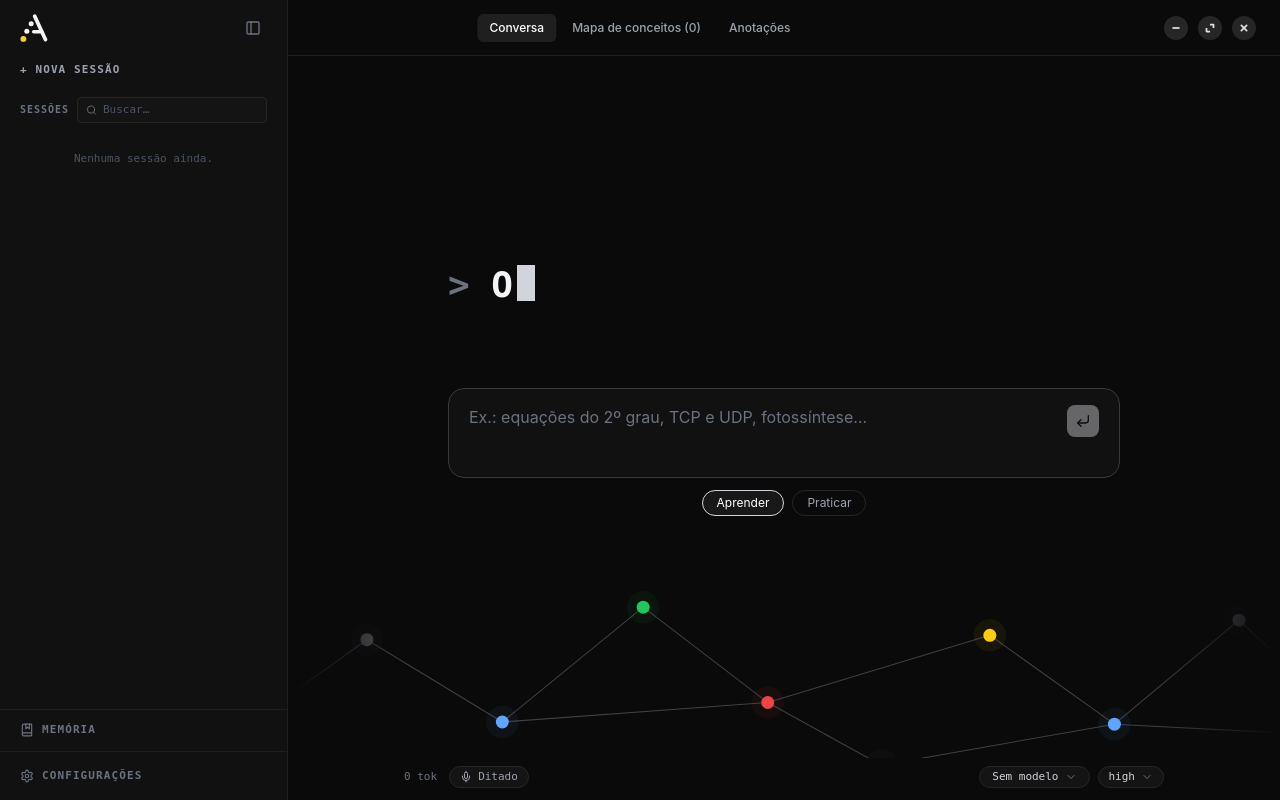
Test: App Session Synchronization, Settings Modal, and Global Dictate › switches the whole interface to English from Settings → Geral
Click the button "Configurações". click: click(144, 775)
box: [0, 750, 287, 799]
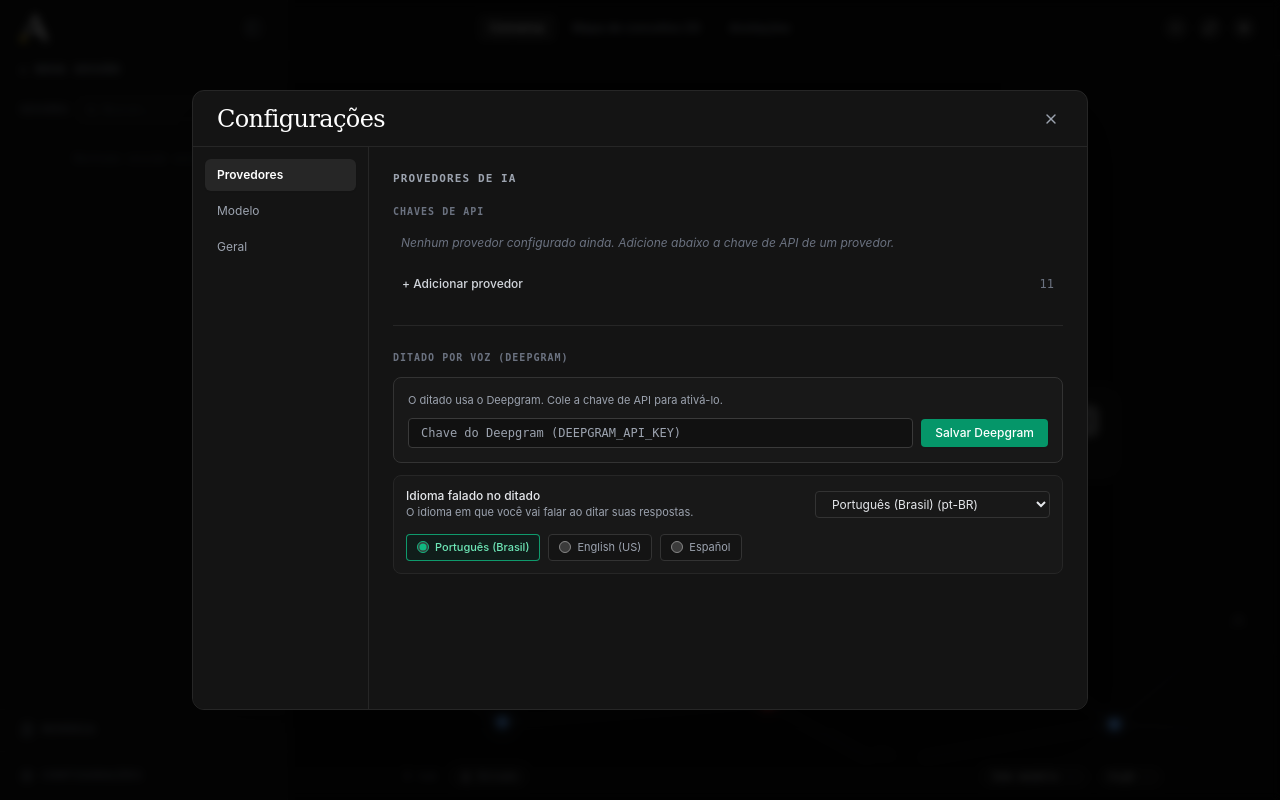
Click the button "Geral". click: click(280, 247)
box: [205, 231, 356, 263]
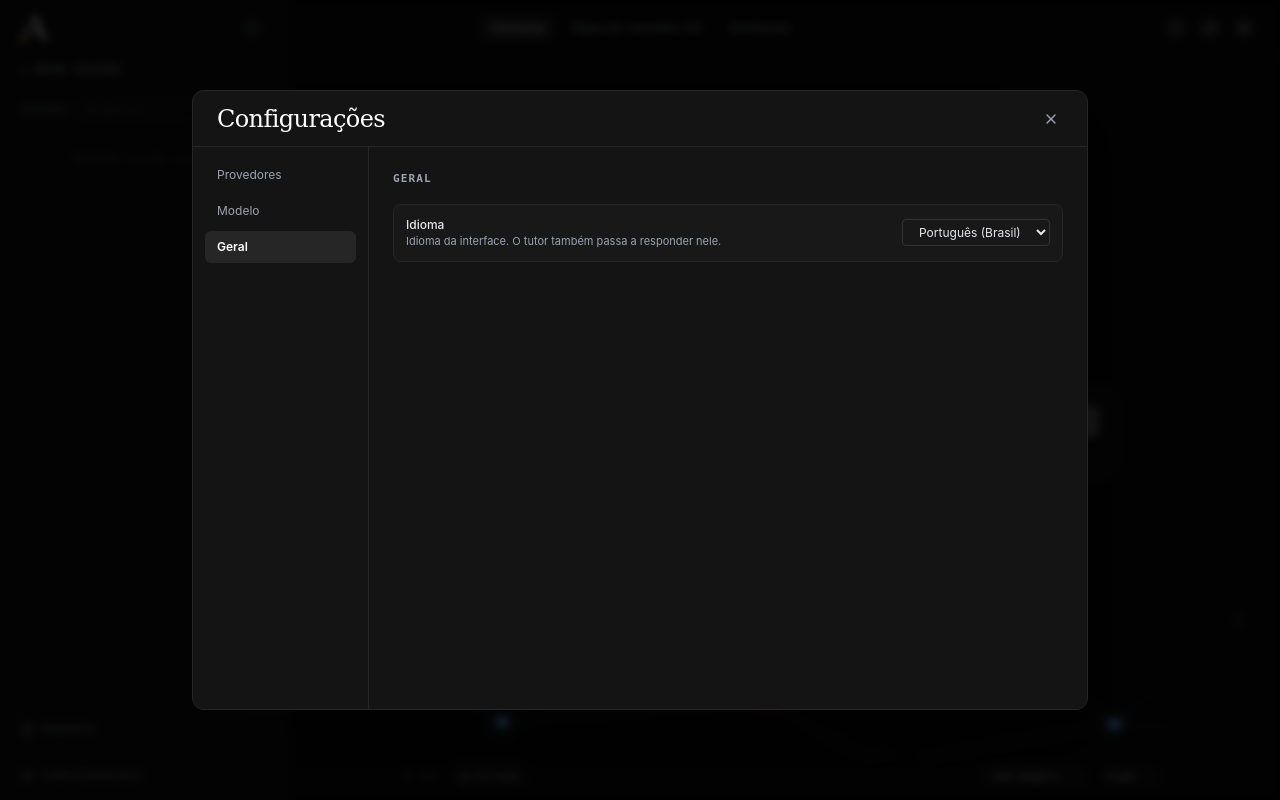
Select "English" in the dropdown named "Idioma". click: (976, 232)
box: [902, 219, 1050, 246]
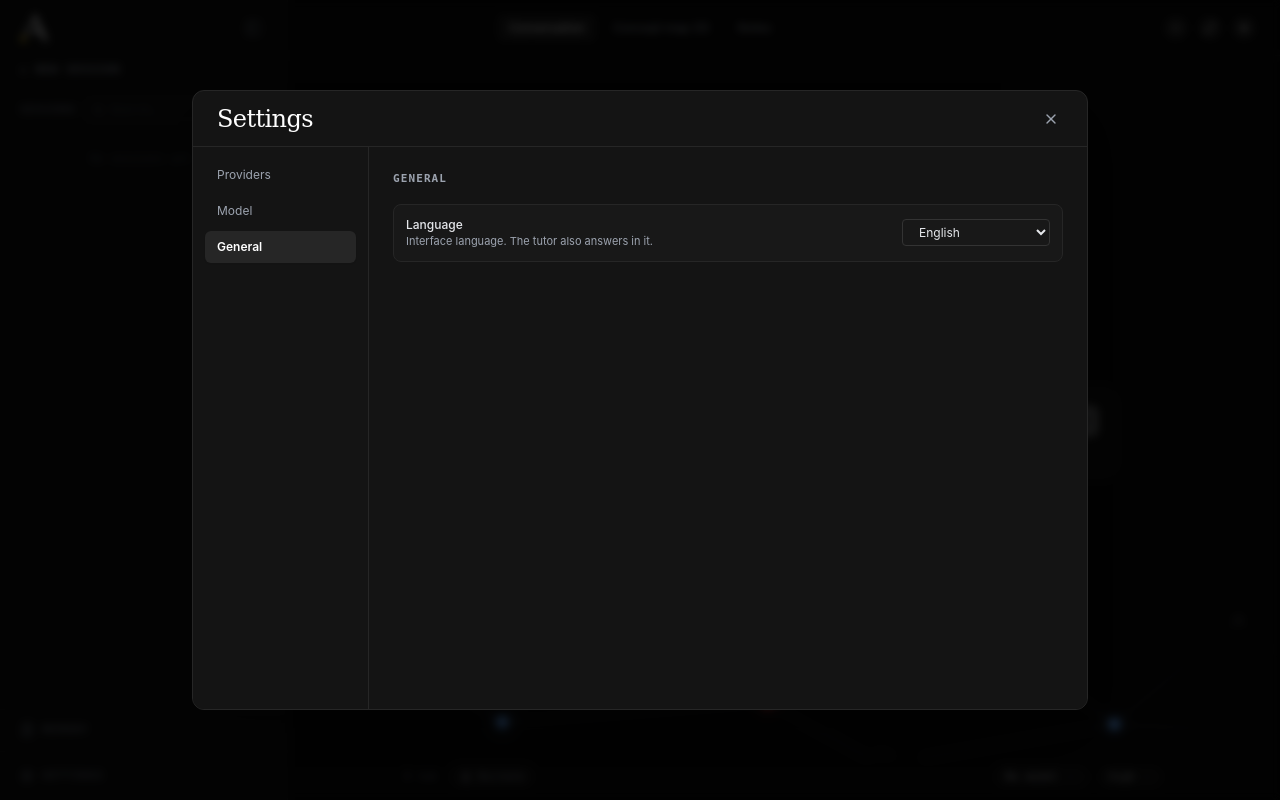
Expected: the heading named "What do you want to learn?" is shown, [448, 288, 1120, 328]
Result: the dialog "Settings" is shown at [192, 90, 1088, 710]
